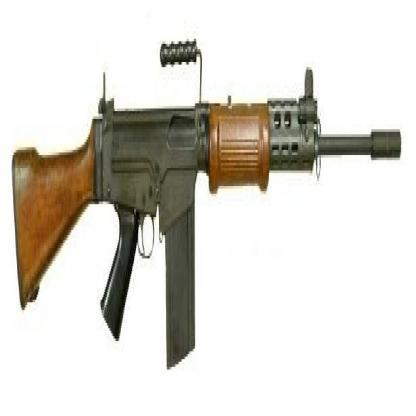gun: (4, 1, 408, 367)
